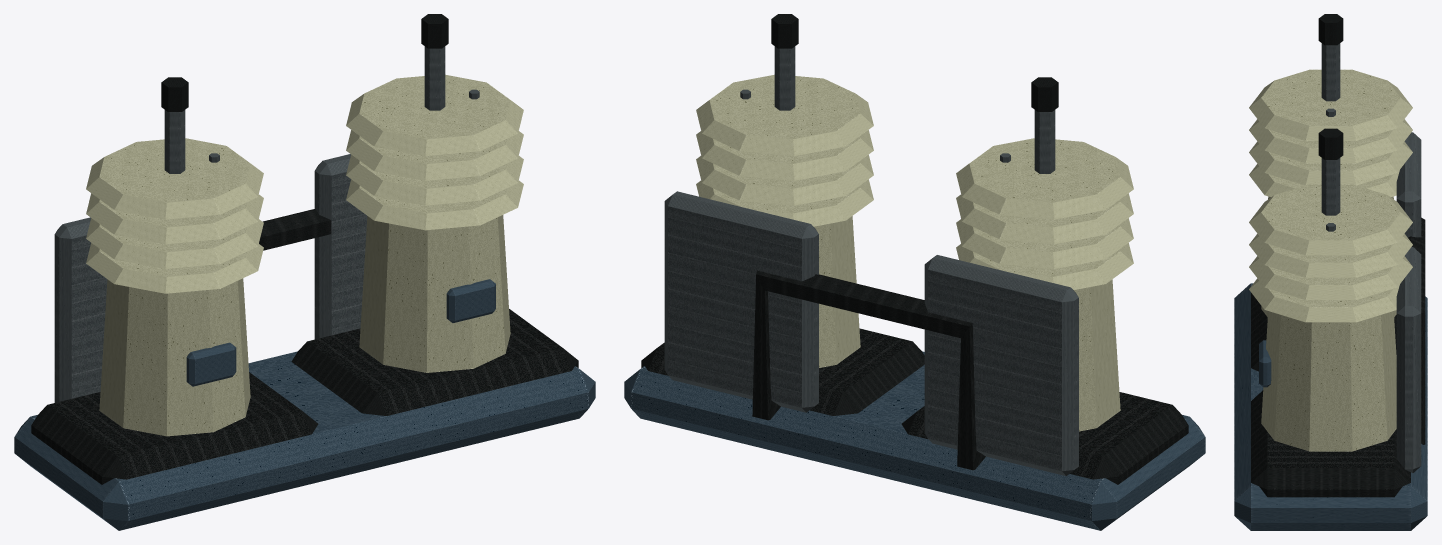
File: blender_thermal_beacon_1.glb
The picture shows the model from 3 angles, left to right: view 1: azimuth 30°, elevation 25°; view 2: azimuth 150°, elevation 25°; view 3: azimuth 270°, elevation 25°; orthographic projection. The views are drawn at different scales.
Parts seen in each view (by area): view 1: blender_thermal_beacon_1; view 2: blender_thermal_beacon_1; view 3: blender_thermal_beacon_1.
Part boxes in pixels (x1,y1,x2,y2): blender_thermal_beacon_1: [14, 14, 595, 530]; blender_thermal_beacon_1: [624, 14, 1205, 530]; blender_thermal_beacon_1: [1234, 14, 1427, 530].
Bounding box in the file's own units: 0.125 × 0.095 × 0.047.
4 materials, 4 textured.
